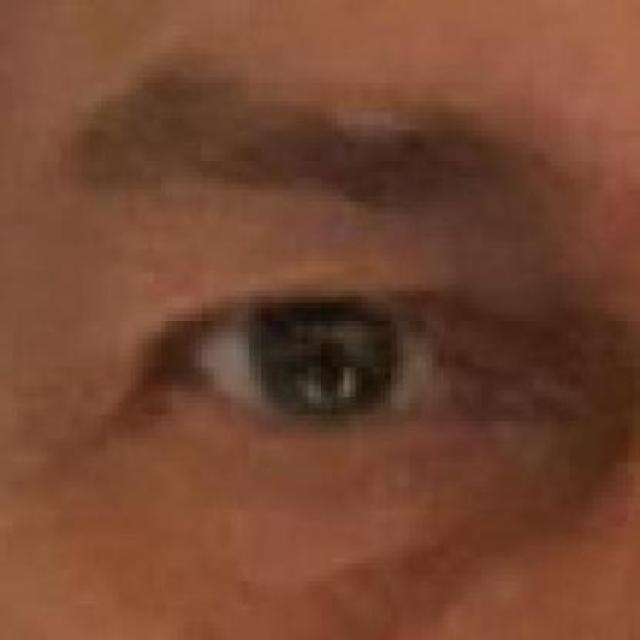awake: (142, 278, 504, 457)
